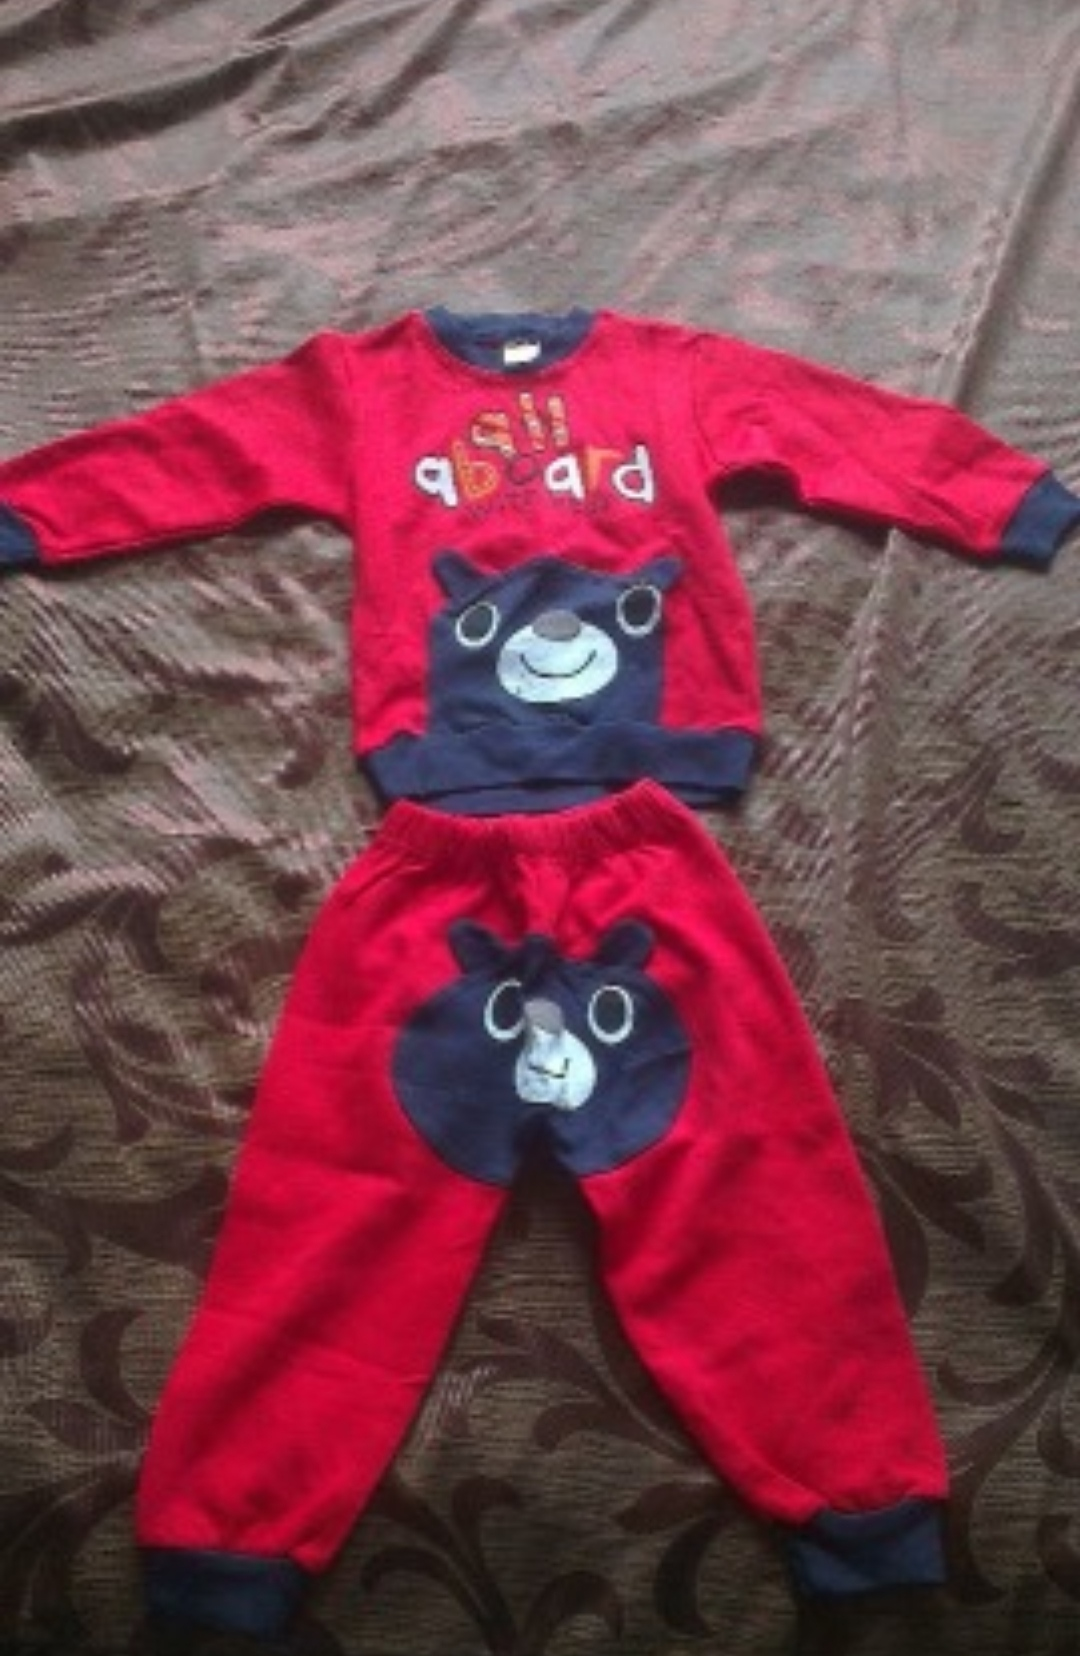clothes: (7, 311, 1080, 1602)
